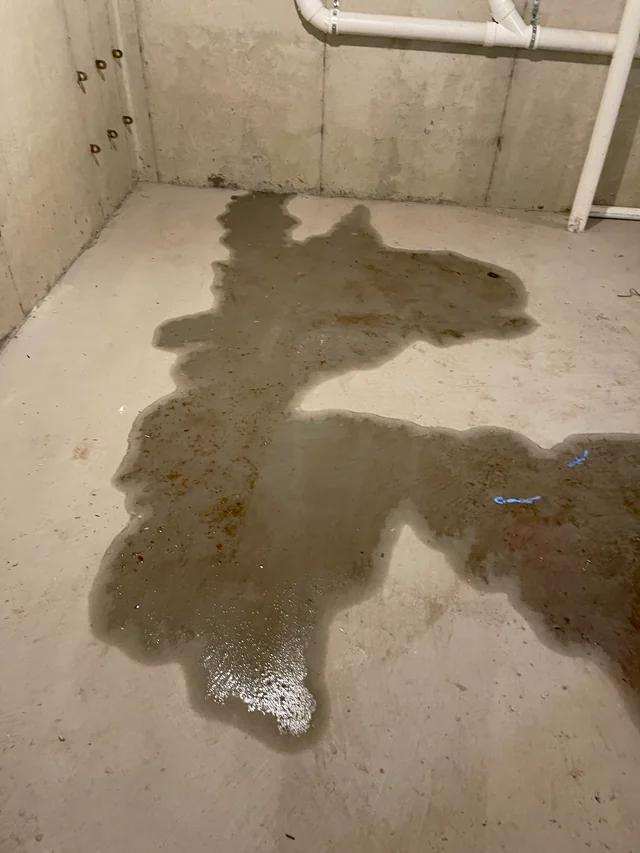water accumulation: (89, 184, 640, 742)
